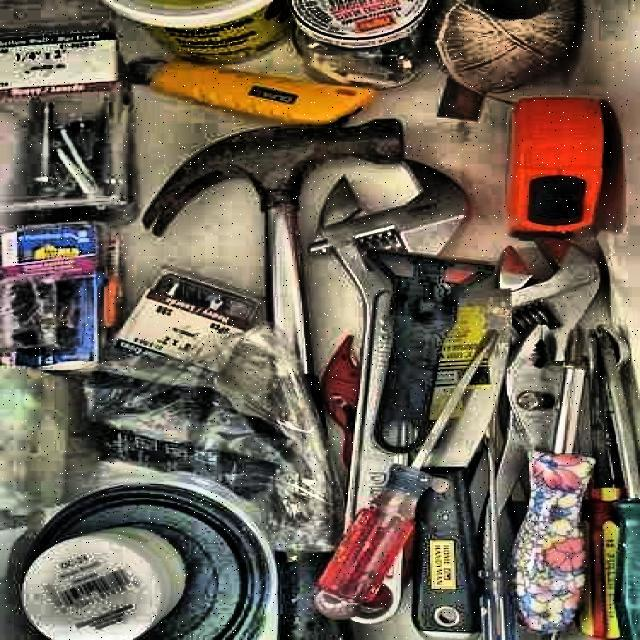hammer: (139, 115, 409, 545)
